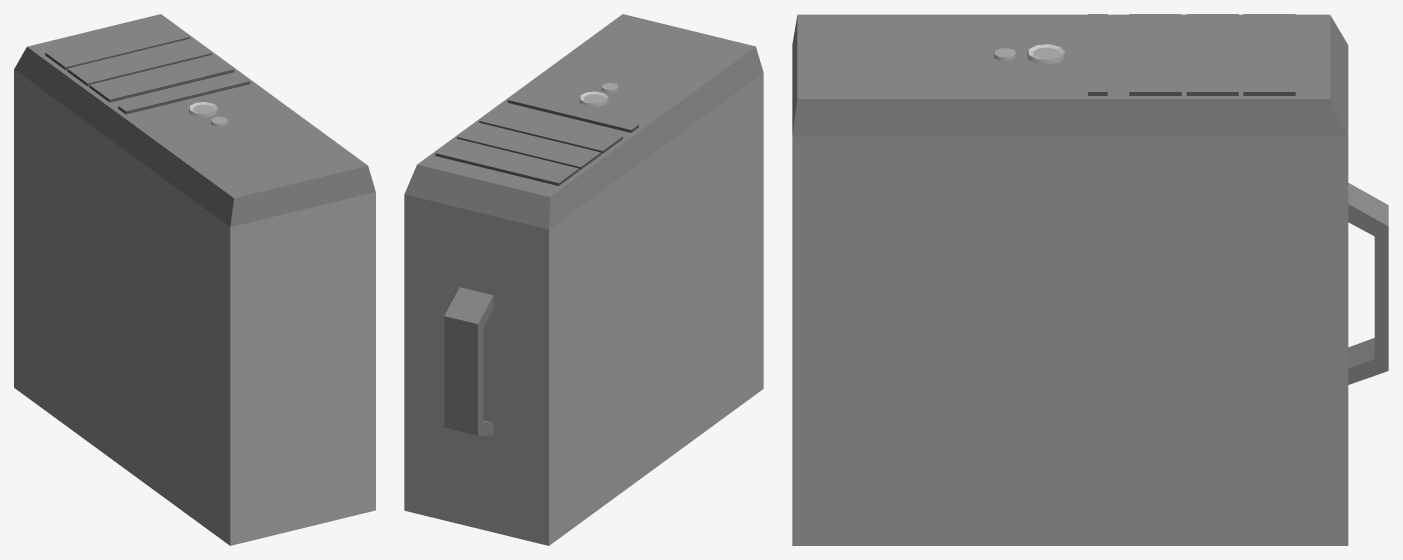
The model's file is PC_Case.glb.
The picture shows the model from 3 angles, left to right: view 1: azimuth 30°, elevation 25°; view 2: azimuth 150°, elevation 25°; view 3: azimuth 270°, elevation 25°; orthographic projection. The views are drawn at different scales.
Parts seen in each view (by area): view 1: PC Case; view 2: PC Case; view 3: PC Case.
Boxes of the visible parts, left/top/right/bottom form: PC Case: left=14, top=14, right=375, bottom=545; PC Case: left=404, top=14, right=763, bottom=545; PC Case: left=792, top=14, right=1388, bottom=545.
Size of the model in its own units: 0.161 by 0.3678 by 0.444.
1 material, 1 textured.
